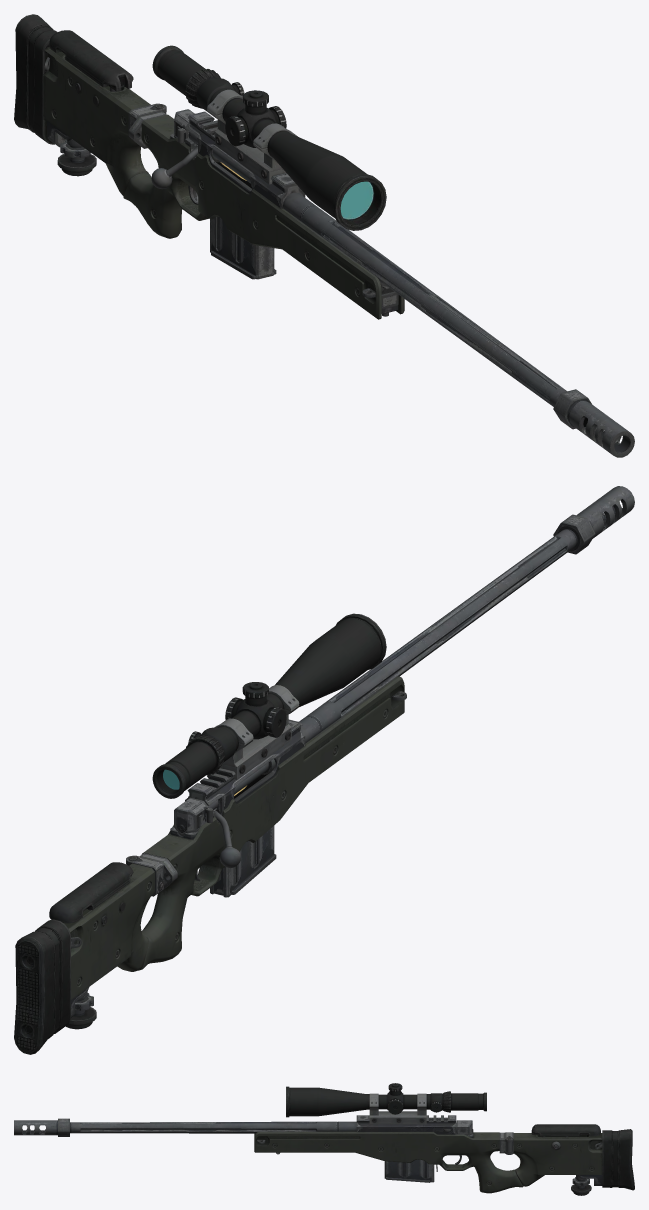
The model's file is sniper_1.glb.
3 renders of one model, top to bottom at view 1: azimuth 30°, elevation 25°; view 2: azimuth 150°, elevation 25°; view 3: azimuth 270°, elevation 25°, orthographic. The views are drawn at different scales.
Visible parts, largest first — view 1: base, scope, mag, bolt; view 2: base, scope, mag, boltback, bolt; view 3: base, scope, mag, boltback.
Boxes of the visible parts, box(x1,y1,x2,y2) form: base: box(14, 14, 634, 457); scope: box(152, 45, 386, 230); mag: box(210, 216, 276, 279); bolt: box(151, 132, 252, 189); base: box(14, 486, 634, 1054); scope: box(152, 613, 386, 798); mag: box(210, 825, 276, 897); boltback: box(174, 797, 212, 835); bolt: box(208, 759, 275, 867); base: box(14, 1115, 634, 1195); scope: box(286, 1083, 486, 1124); mag: box(384, 1159, 434, 1182); boltback: box(456, 1120, 473, 1135).
Size of the model in its own units: 11.2 by 32.24 by 168.
Materials: 1 (1 with a texture image).
